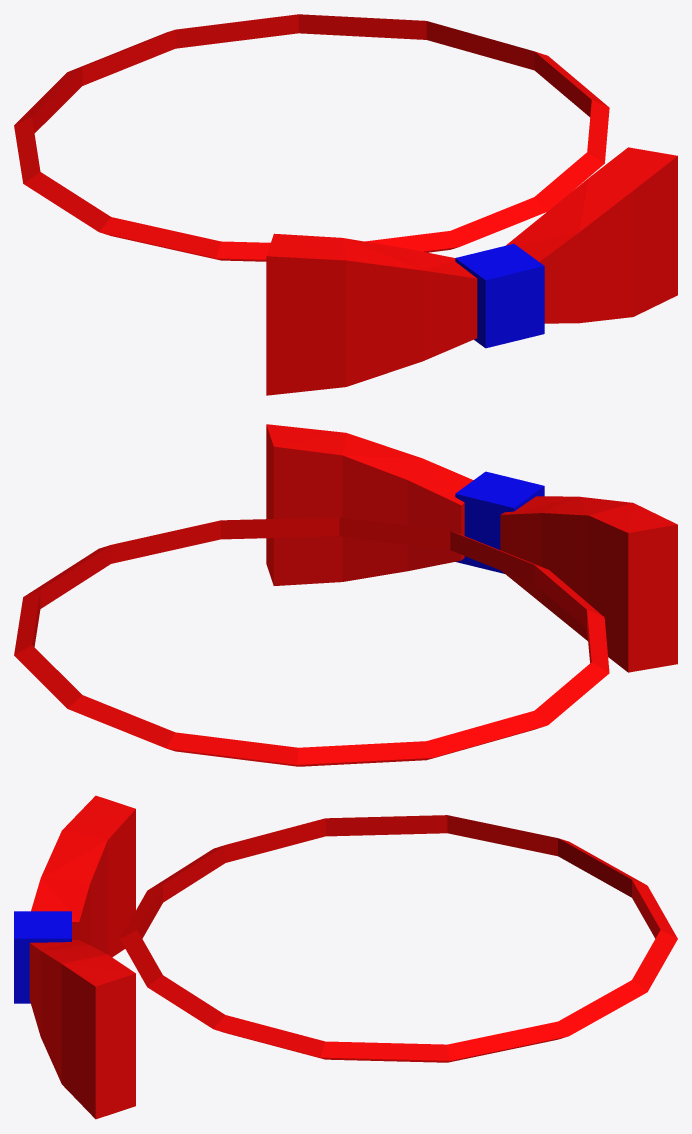
Rendered from neck_bow_tie_01.glb.
3 views of the same model, one above another, from view 1: azimuth 30°, elevation 25°; view 2: azimuth 150°, elevation 25°; view 3: azimuth 270°, elevation 25° (orthographic). The views are drawn at different scales.
Parts seen in each view (by area): view 1: neck_bow_tie_01; view 2: neck_bow_tie_01; view 3: neck_bow_tie_01.
Part boxes in pixels (bbox=[...]): neck_bow_tie_01: bbox=[14, 14, 677, 395]; neck_bow_tie_01: bbox=[14, 424, 677, 766]; neck_bow_tie_01: bbox=[14, 795, 677, 1119].
Size of the model in its own units: 0.1693 by 0.043 by 0.1948.
Materials: 1 (1 with a texture image).
